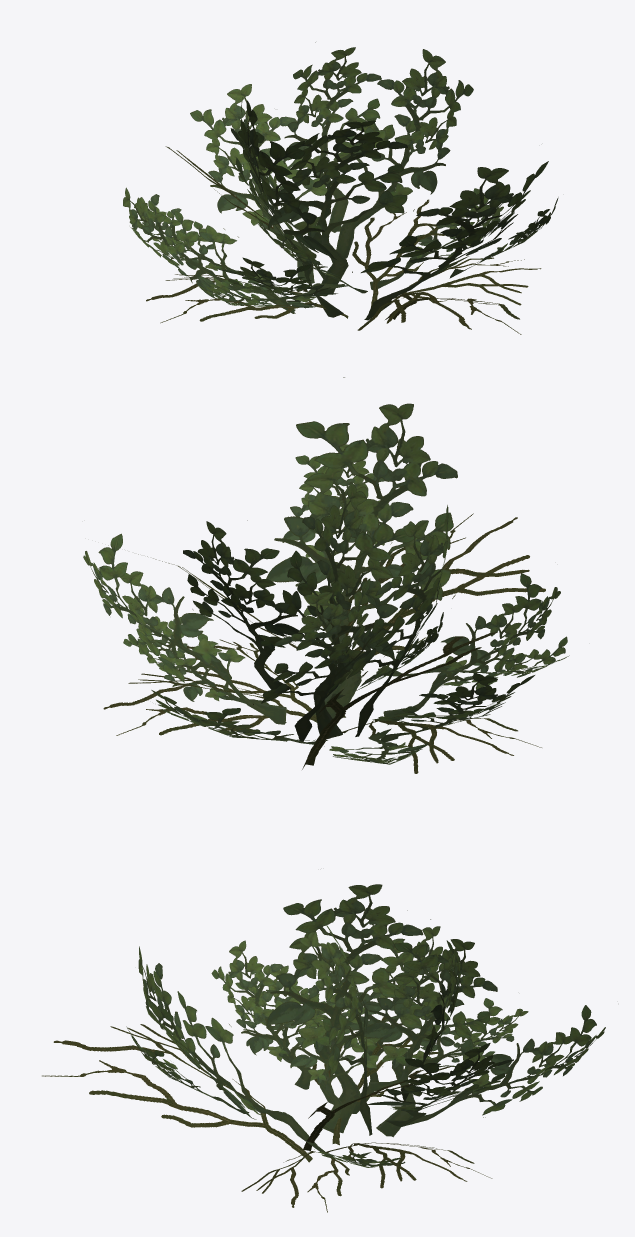
The picture shows the model from 3 angles, top to bottom: view 1: azimuth 30°, elevation 25°; view 2: azimuth 150°, elevation 25°; view 3: azimuth 270°, elevation 25°; orthographic projection. The views are drawn at different scales.
Parts seen in each view (by area): view 1: plants_bush_a-0-branch1; view 2: plants_bush_a-0-branch1; view 3: plants_bush_a-0-branch1.
Boxes of the visible parts, box(x1,y1,x2,y2) form: plants_bush_a-0-branch1: box(123, 42, 558, 334); plants_bush_a-0-branch1: box(83, 377, 569, 773); plants_bush_a-0-branch1: box(42, 884, 605, 1212).
Size of the model in its own units: 2.98 by 1.31 by 2.79.
Materials: 1 (1 with a texture image).
